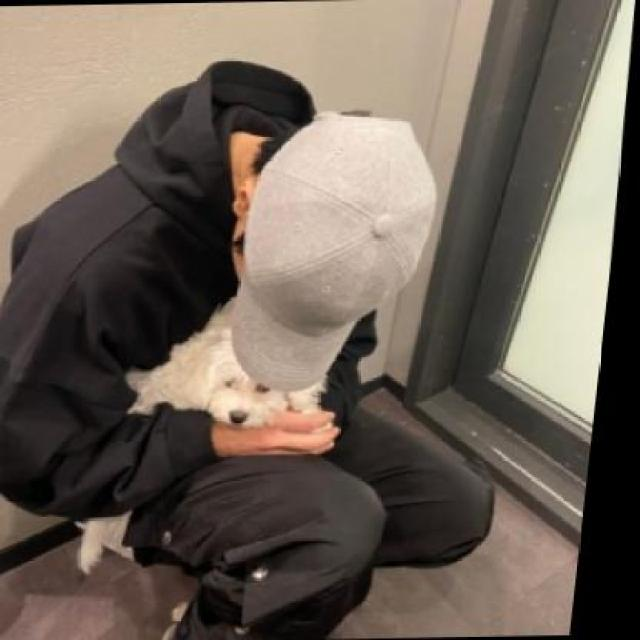hat: (227, 105, 456, 392)
